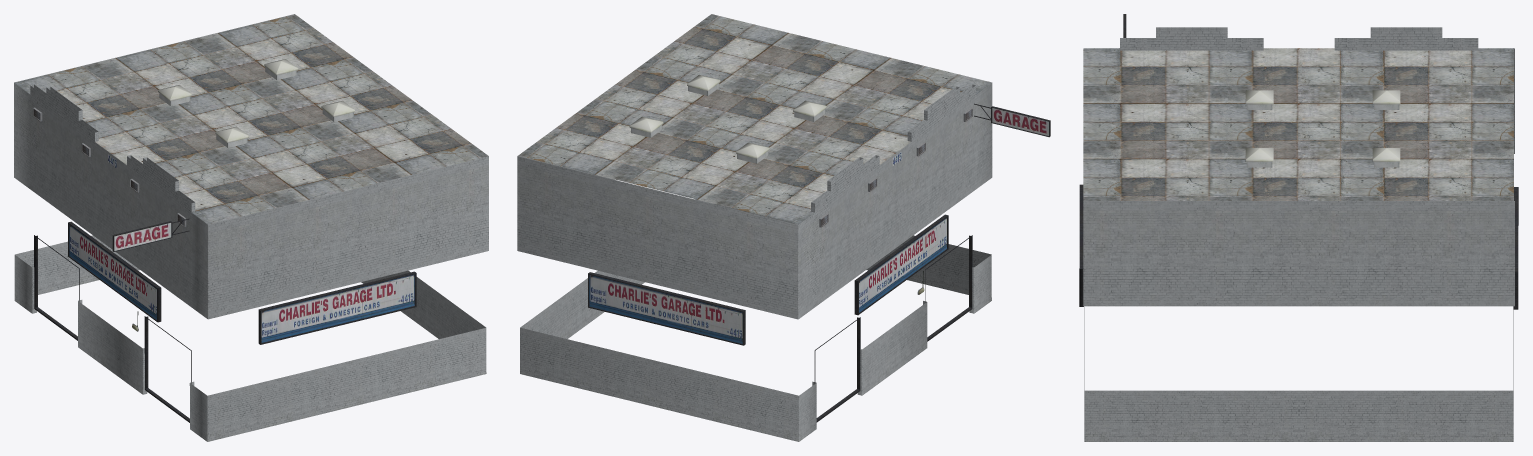
File: u2SEBuild9.gltf
The picture shows the model from 3 angles, left to right: view 1: azimuth 30°, elevation 25°; view 2: azimuth 150°, elevation 25°; view 3: azimuth 270°, elevation 25°; orthographic projection. The views are drawn at different scales.
Parts seen in each view (by area): view 1: u2SEBuild9; view 2: u2SEBuild9; view 3: u2SEBuild9.
Boxes of the visible parts, box(x1,y1,x2,y2) form: u2SEBuild9: box(14, 14, 488, 441); u2SEBuild9: box(517, 14, 1050, 441); u2SEBuild9: box(1079, 14, 1518, 441).
Size of the model in its own units: 5.97 by 3.78 by 5.72.
6 materials, 6 textured.
